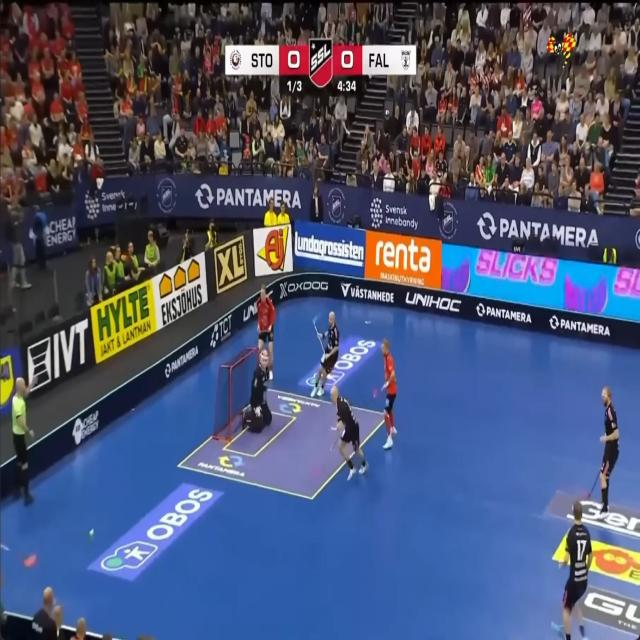Balls: (89, 529, 94, 539)
player: (554, 500, 592, 639), (331, 385, 367, 479), (11, 376, 36, 504), (598, 387, 618, 518), (242, 350, 272, 431), (311, 312, 339, 396), (256, 285, 275, 379), (381, 339, 397, 450)
stick: (585, 471, 600, 498), (312, 319, 324, 352), (373, 385, 386, 397), (330, 438, 339, 450), (0, 544, 9, 550), (330, 426, 337, 431)
